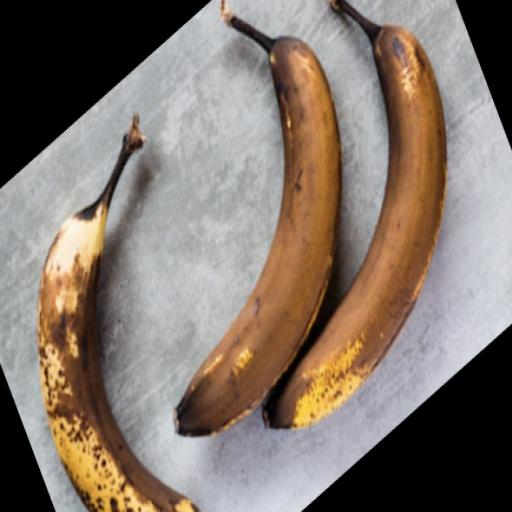banana-overripe: (20, 0, 462, 512)
